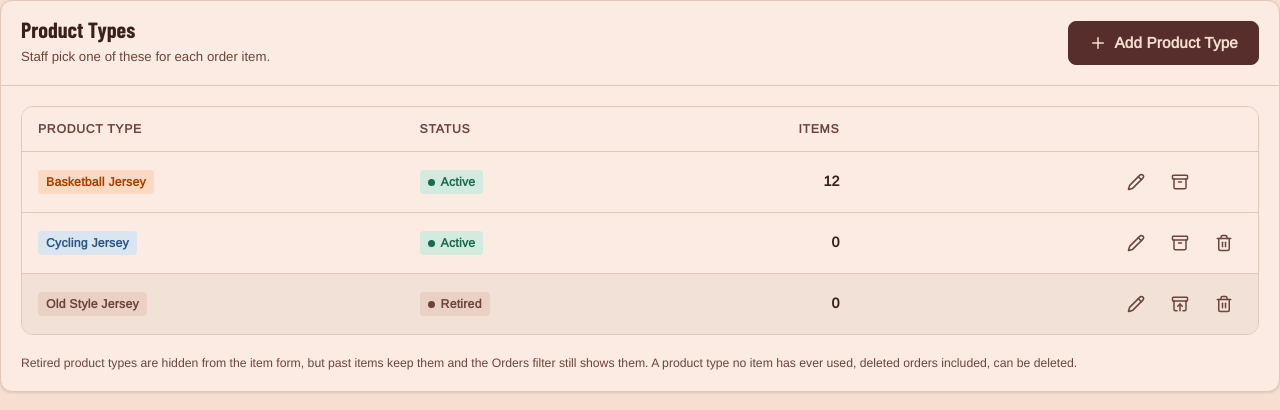
S1 list card: product-types › retires at once with the per-list toast, flips the row and keeps focus on the flipped action
Expected: the table named "Product types" is shown, [22,107,1258,334]
Click the button named "Retire Cycling Jersey": (1180,243) [1162,225,1198,261]
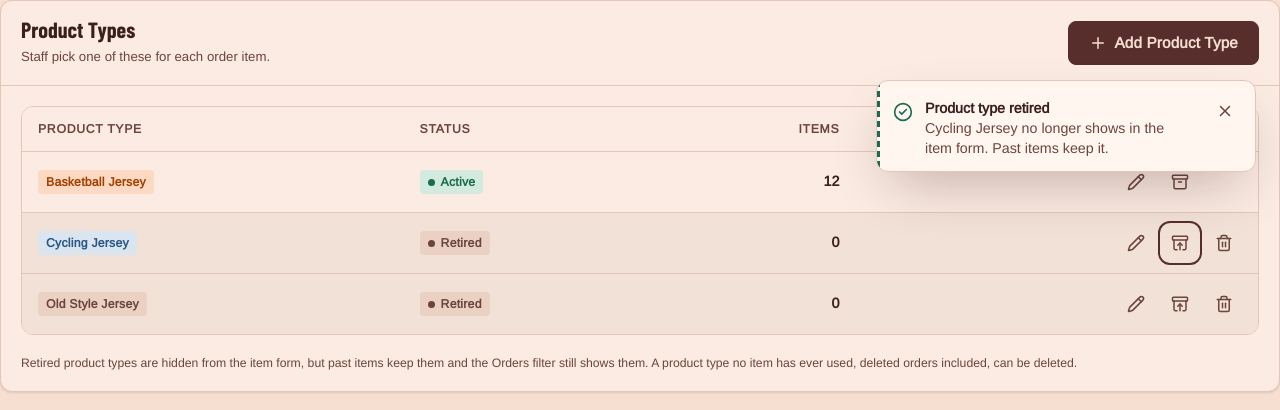
Expected: the text "Retired" is shown, [420,231,490,255]
Expected: the text "Product type retired" is shown, [925,101,1049,116]
